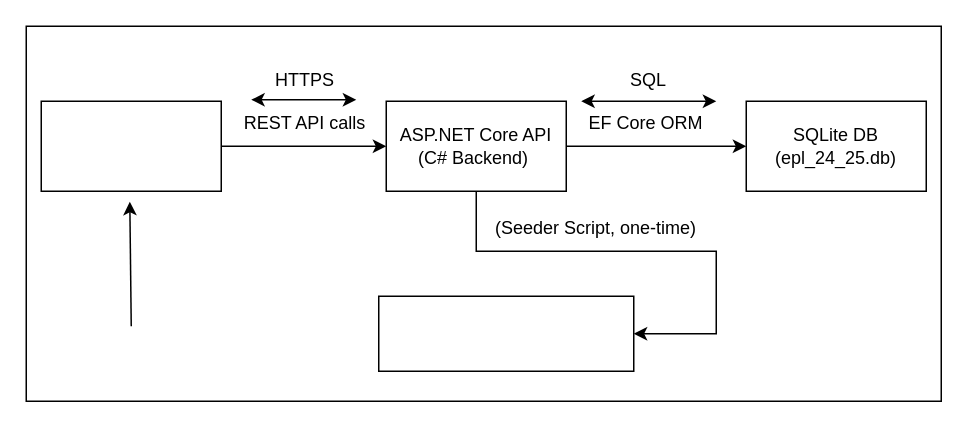
The diagram is 968 pixels wide and 428 high, and some of its shapes have lost their labels. The centre of each missing label's shape, as x and y in pixels:
3rd Party API (footballapi.pulselive.com): point 505,333
Web Browser (React Frontent): point 130,145
